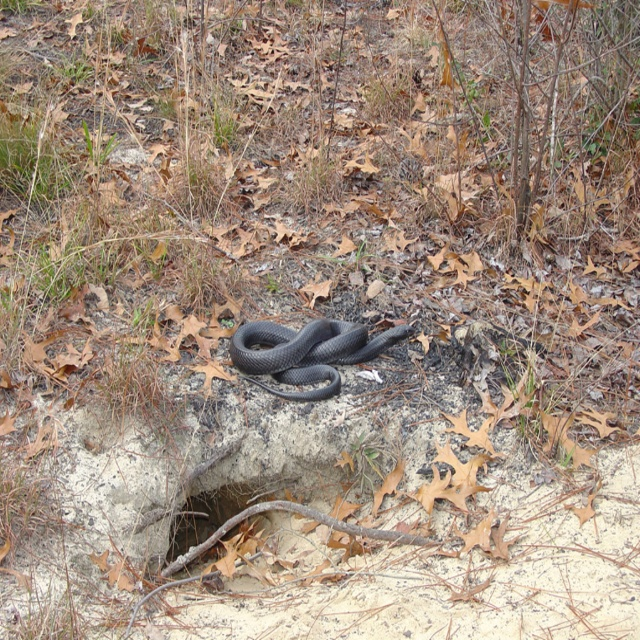Snake: (230, 305, 417, 407)
